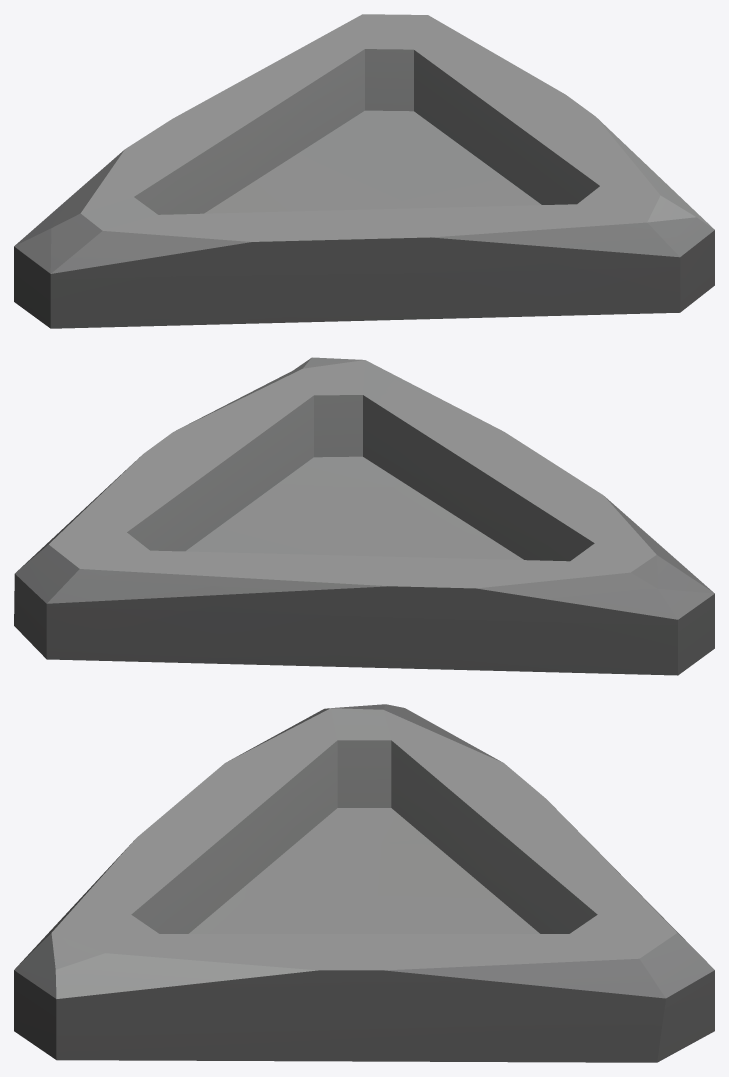
Rendered from button_area3.fbx.
The picture shows the model from 3 angles, top to bottom: view 1: azimuth 30°, elevation 25°; view 2: azimuth 150°, elevation 25°; view 3: azimuth 270°, elevation 25°; orthographic projection. The views are drawn at different scales.
Visible parts, largest first — view 1: button_area3; view 2: button_area3; view 3: button_area3.
Part boxes in pixels (x1,y1,x2,y2): button_area3: [14, 14, 714, 328]; button_area3: [14, 357, 714, 675]; button_area3: [14, 704, 714, 1062].
Bounding box in the file's own units: 22.75 × 3.27 × 22.95.
